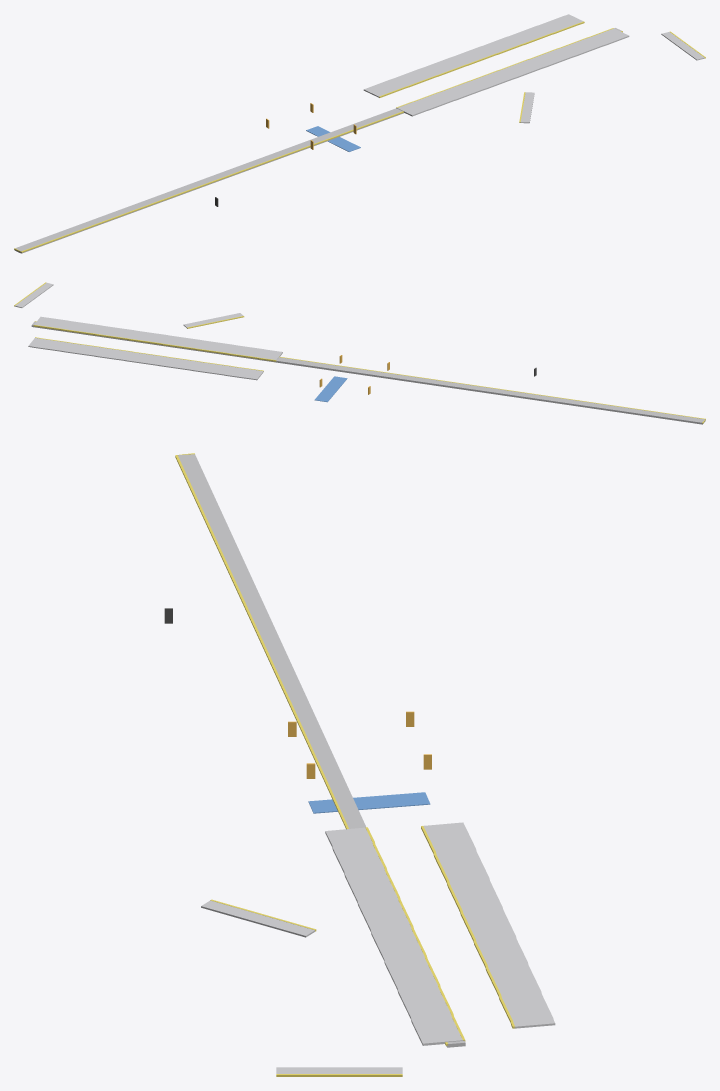
File: 8504488-bern-riedbach.glb
3 views of the same model, one above another, from view 1: azimuth 30°, elevation 25°; view 2: azimuth 150°, elevation 25°; view 3: azimuth 270°, elevation 25° (orthographic). The views are drawn at different scales.
Parts seen in each view (by area): view 1: platform_body@0, platform_surface@0, boarding_edge@0, passage@-1; view 2: platform_body@0, platform_surface@0, boarding_edge@0, passage@-1; view 3: platform_body@0, platform_surface@0, boarding_edge@0, passage@-1.
Boxes of the visible parts, x1=… form: platform_body@0: x1=363, y1=14, x2=704, y2=123; platform_surface@0: x1=14, y1=28, x2=621, y2=253; boarding_edge@0: x1=14, y1=21, x2=705, y2=252; passage@-1: x1=306, y1=126, x2=360, y2=151; platform_body@0: x1=15, y1=282, x2=282, y2=380; platform_surface@0: x1=31, y1=321, x2=705, y2=424; boarding_edge@0: x1=14, y1=282, x2=705, y2=423; passage@-1: x1=314, y1=376, x2=347, y2=402; platform_body@0: x1=201, y1=822, x2=555, y2=1073; platform_surface@0: x1=178, y1=454, x2=465, y2=1047; boarding_edge@0: x1=175, y1=453, x2=515, y2=1076; passage@-1: x1=308, y1=792, x2=430, y2=813.
Size of the model in its own units: 210 by 6.92 by 55.64.
